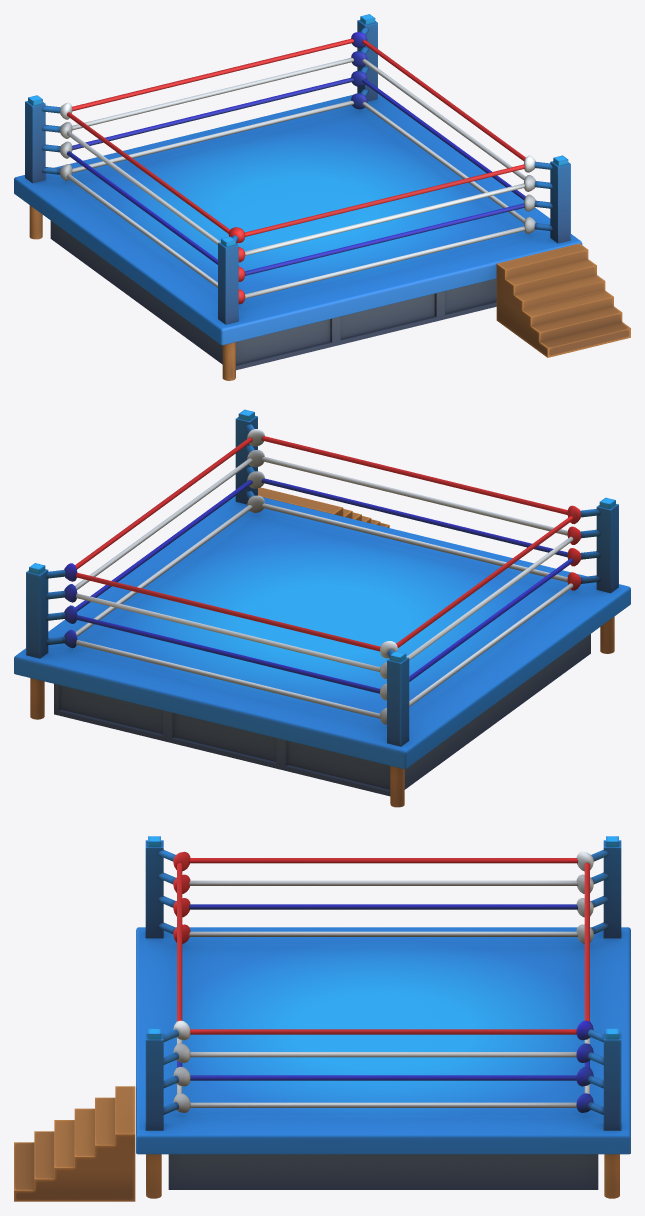
Rendered from Ring 3.glb.
3 renders of one model, top to bottom at view 1: azimuth 30°, elevation 25°; view 2: azimuth 150°, elevation 25°; view 3: azimuth 270°, elevation 25°, orthographic. The views are drawn at different scales.
Parts seen in each view (by area): view 1: Box001; view 2: Box001; view 3: Box001.
Part boxes in pixels (box(x1,y1,x2,y2)): Box001: box(14, 14, 630, 380); Box001: box(14, 409, 630, 807); Box001: box(14, 836, 630, 1201).
Bounding box in the file's own units: 553 × 202 × 690.
Materials: 1 (1 with a texture image).
